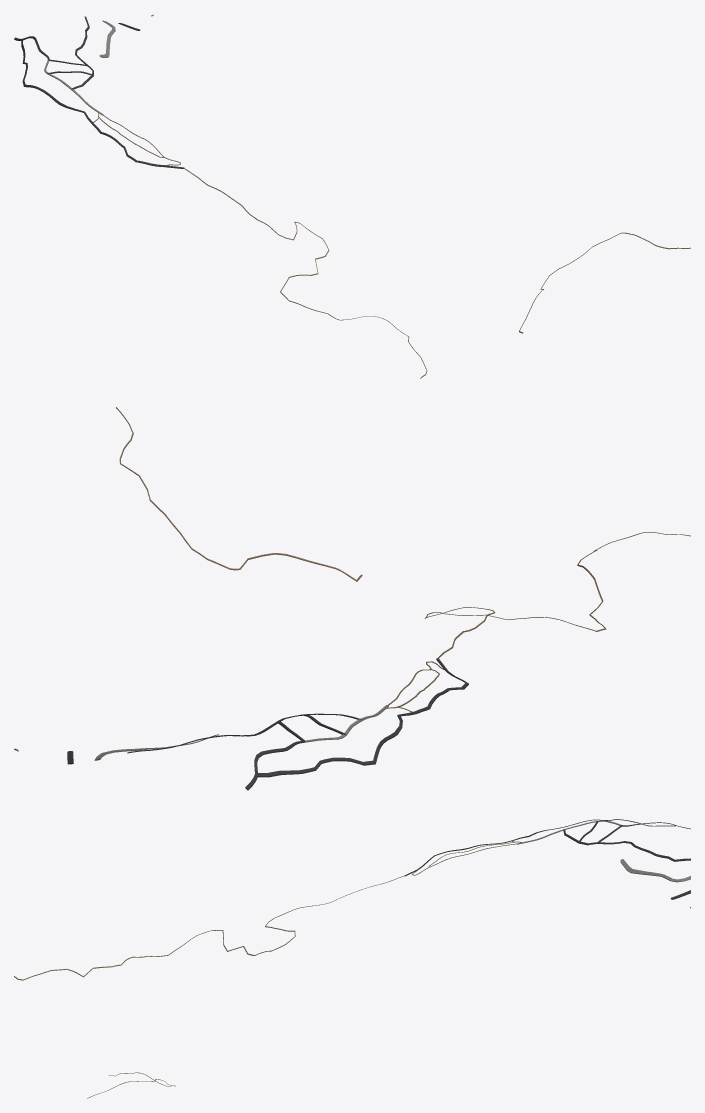
File: 15-27353-14866.0a027aad.glb
The picture shows the model from 3 angles, top to bottom: view 1: azimuth 30°, elevation 25°; view 2: azimuth 150°, elevation 25°; view 3: azimuth 270°, elevation 25°; orthographic projection. The views are drawn at different scales.
Size of the model in its own units: 824 by 284 by 1166.
